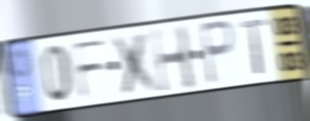0: (40, 43, 73, 106)
F: (70, 36, 110, 102)
H: (148, 23, 199, 96)
P: (198, 17, 237, 87)
T: (239, 16, 270, 78)
X: (109, 29, 163, 97)
